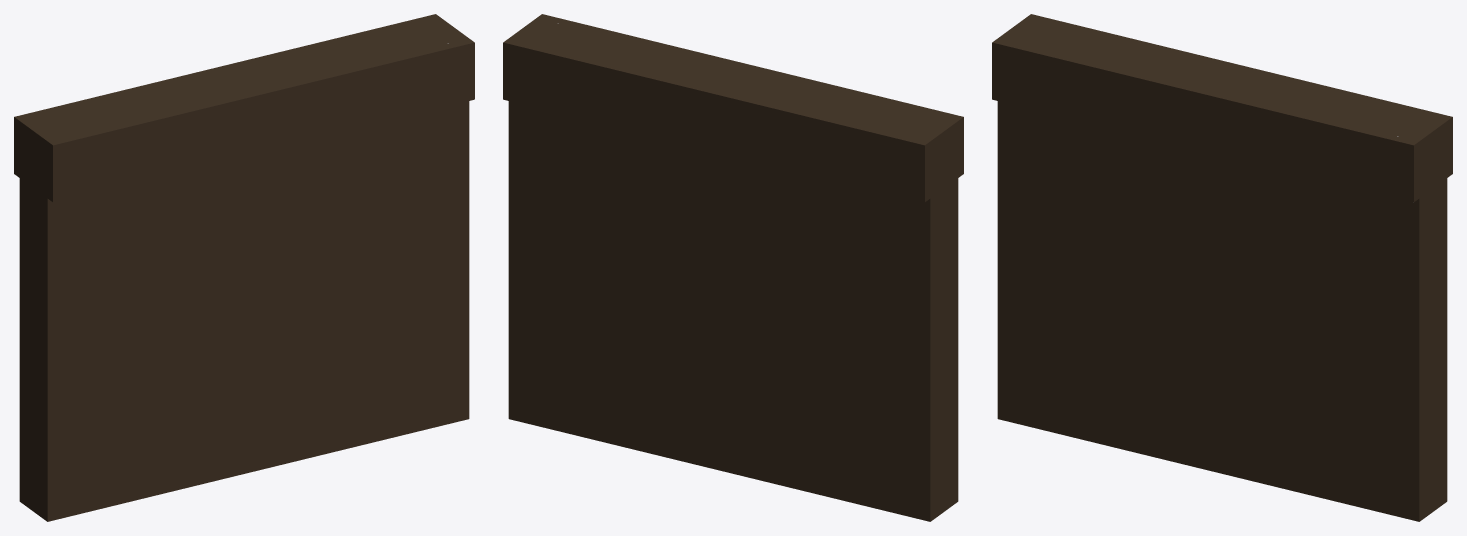
File: Fence Short.fbx
The picture shows the model from 3 angles, left to right: view 1: azimuth 30°, elevation 25°; view 2: azimuth 150°, elevation 25°; view 3: azimuth 330°, elevation 25°; orthographic projection.
Parts seen in each view (by area): view 1: Fence Short; view 2: Fence Short; view 3: Fence Short.
Part boxes in pixels (box(x1,y1,x2,y2)): Fence Short: box(14, 14, 474, 521); Fence Short: box(503, 14, 963, 521); Fence Short: box(992, 14, 1452, 521).
Bounding box in the file's own units: 69.97 × 60.34 × 11.2.
